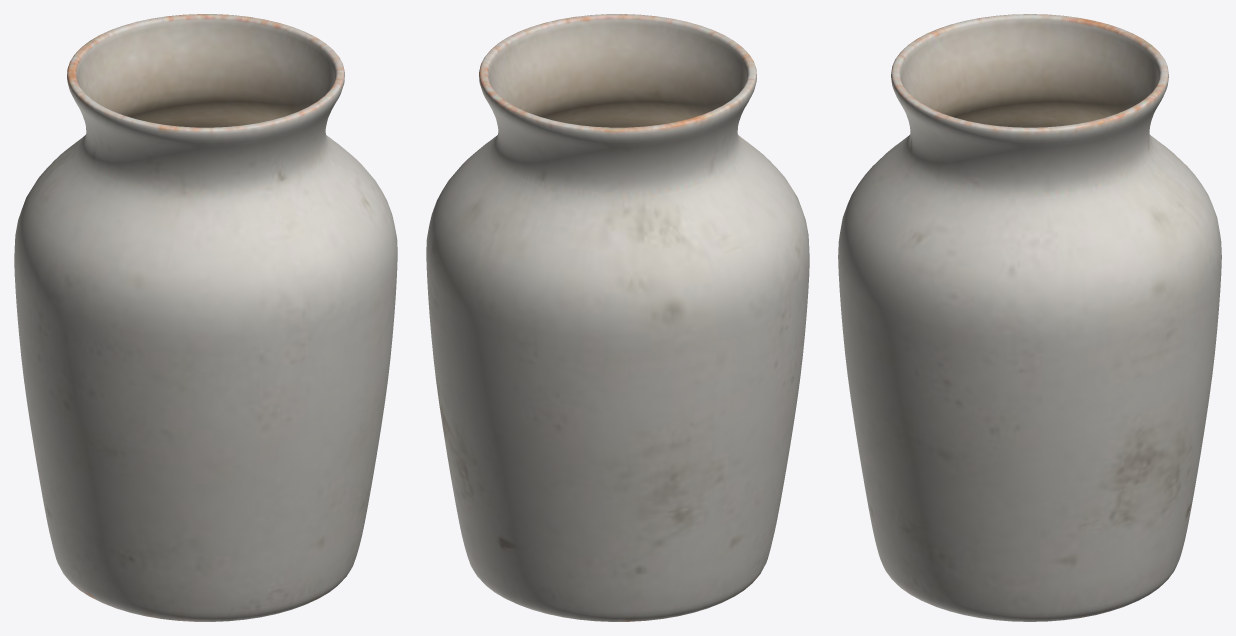
The model's file is ceramic_vase_02.glb.
The picture shows the model from 3 angles, left to right: view 1: azimuth 30°, elevation 25°; view 2: azimuth 150°, elevation 25°; view 3: azimuth 270°, elevation 25°; orthographic projection.
Parts seen in each view (by area): view 1: ceramic_vase_02; view 2: ceramic_vase_02; view 3: ceramic_vase_02.
Part boxes in pixels (left/top/right/bottom): ceramic_vase_02: left=14, top=14, right=397, bottom=621; ceramic_vase_02: left=426, top=14, right=809, bottom=621; ceramic_vase_02: left=838, top=14, right=1221, bottom=621.
Size of the model in its own units: 0.2184 by 0.3092 by 0.2184.
Materials: 1 (1 with a texture image).
